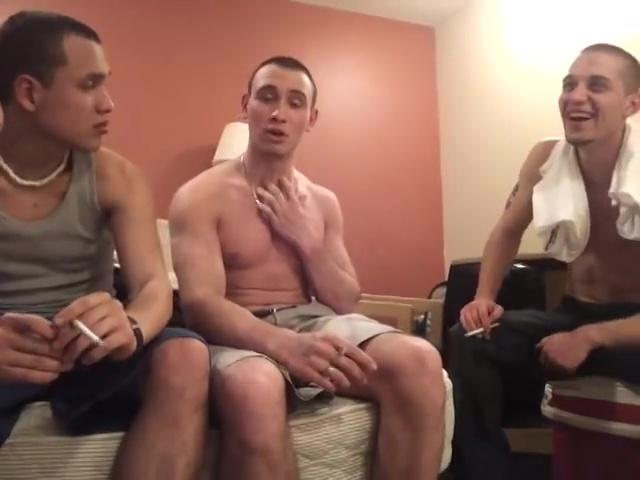cigarette: (70, 317, 109, 349), (463, 322, 502, 338)
